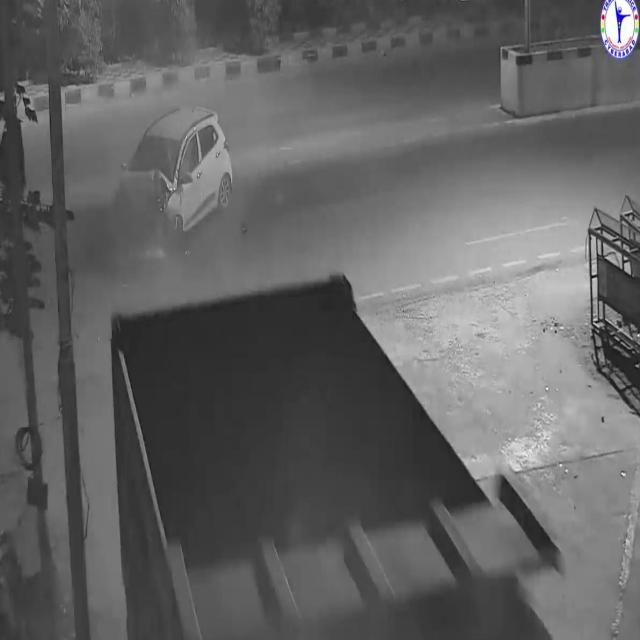accident: (104, 91, 240, 265)
